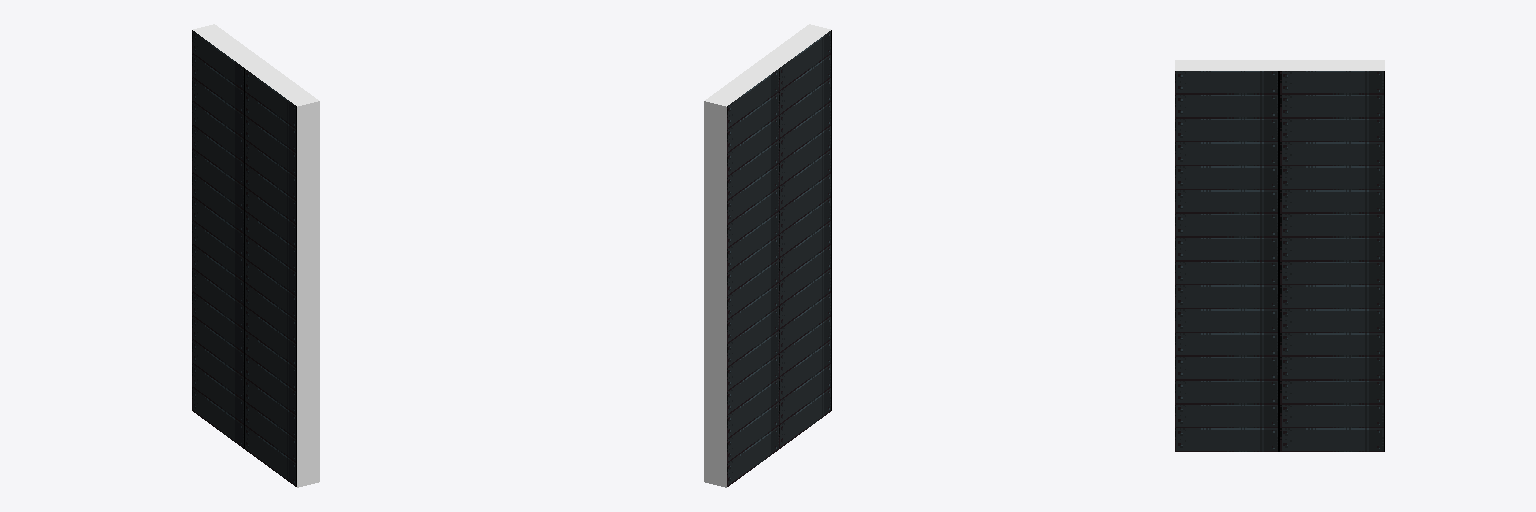
3 views of the same model, side by side, from view 1: azimuth 30°, elevation 25°; view 2: azimuth 150°, elevation 25°; view 3: azimuth 270°, elevation 25° (orthographic).
Parts seen in each view (by area): view 1: DoorA1; view 2: DoorA1; view 3: DoorA1.
Part boxes in pixels (x1,y1,x2,y2): DoorA1: (192,24,319,487); DoorA1: (704,24,831,487); DoorA1: (1175,60,1384,451).
Bounding box in the file's own units: 0.25 × 4 × 2.
2 materials, 1 textured.